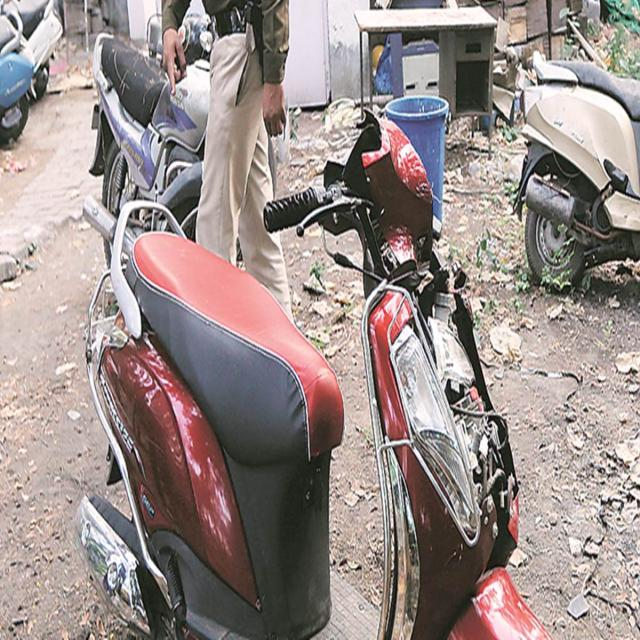accident: (75, 112, 548, 639)
